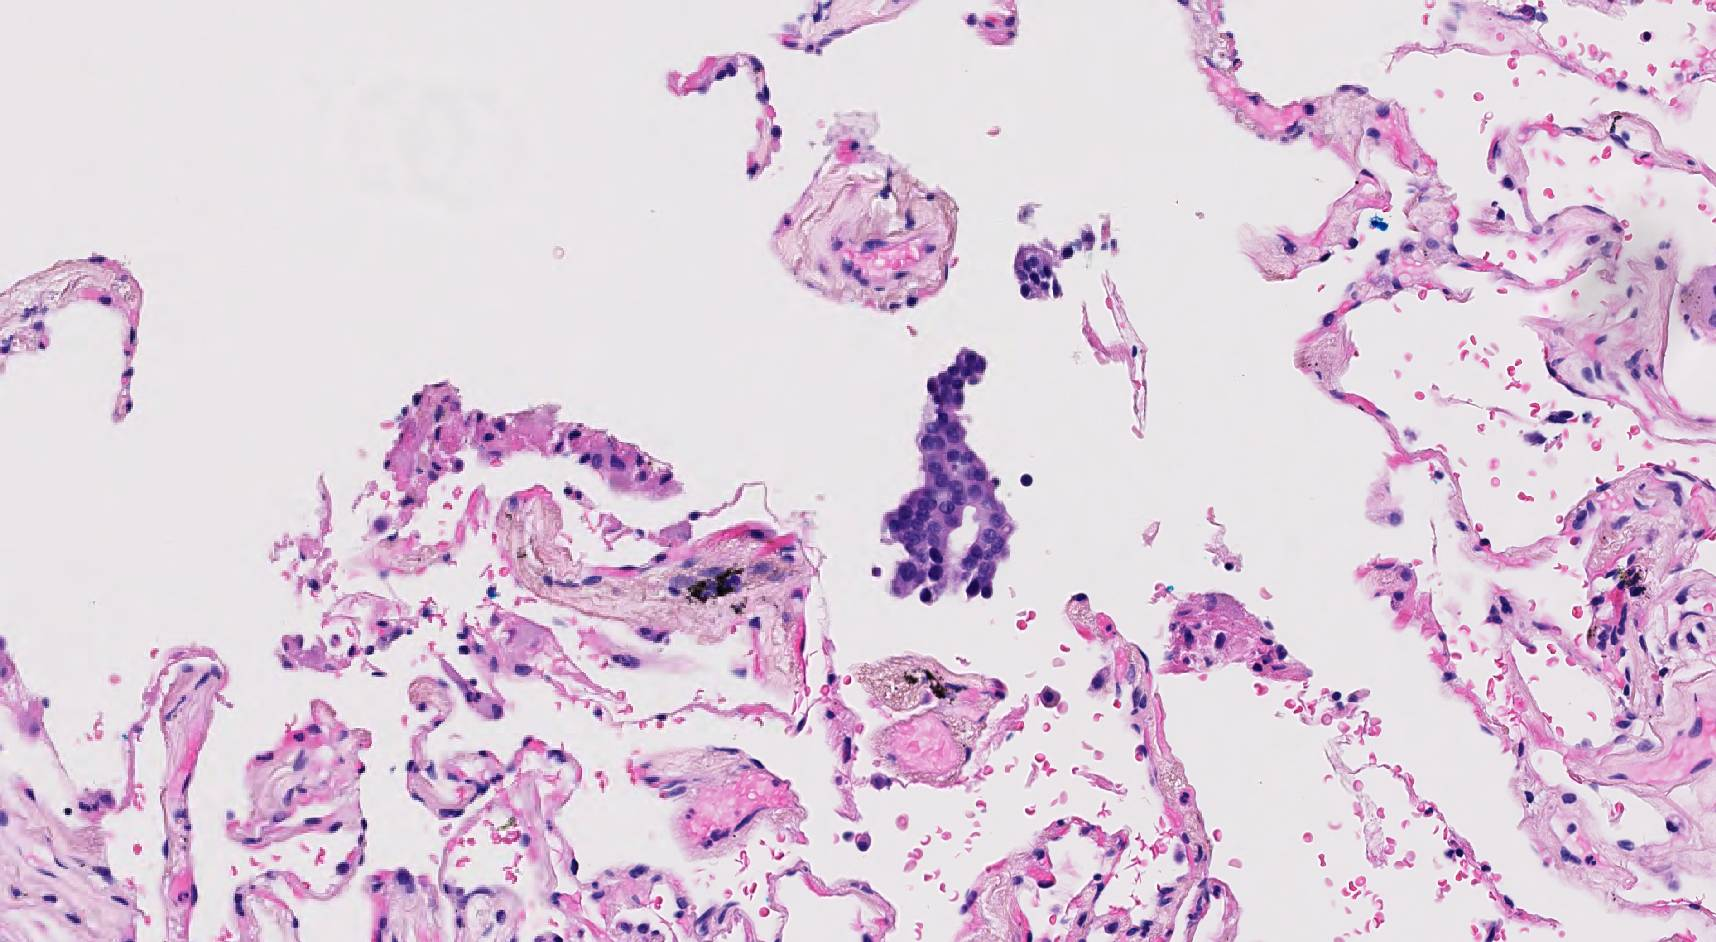stas: (884, 344, 1011, 601), (1011, 226, 1108, 306)
